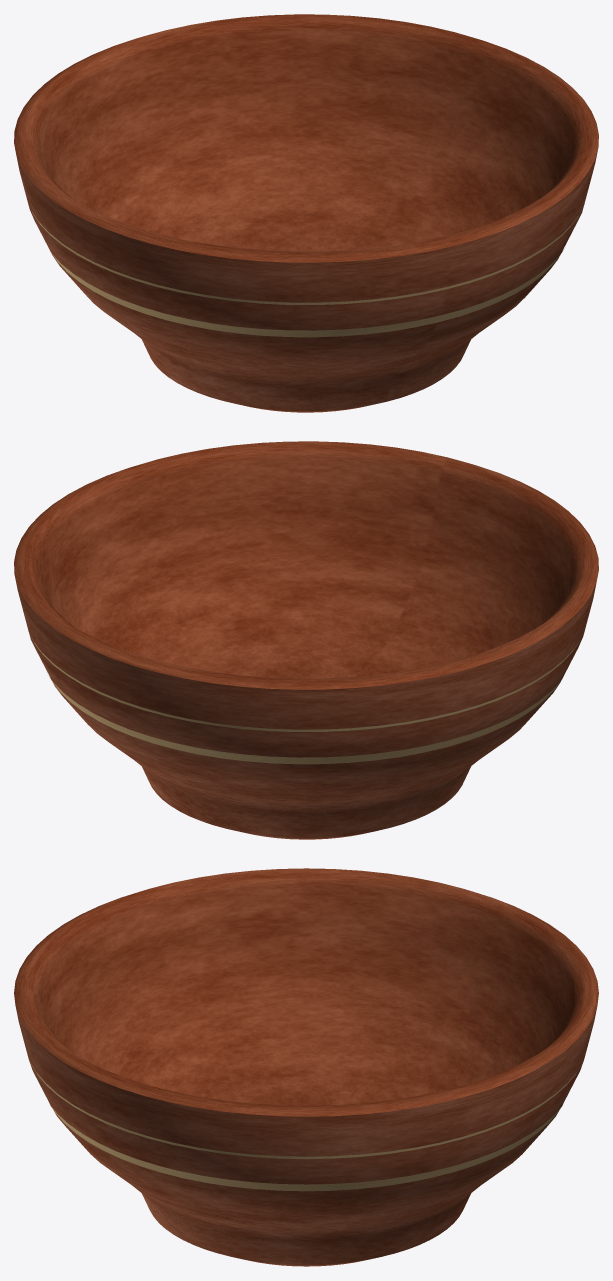
File: clay-bowl.glb
The picture shows the model from 3 angles, top to bottom: view 1: azimuth 30°, elevation 25°; view 2: azimuth 150°, elevation 25°; view 3: azimuth 270°, elevation 25°; orthographic projection.
Visible parts, largest first — view 1: Open terracotta bowl; view 2: Open terracotta bowl; view 3: Open terracotta bowl.
Part boxes in pixels (left/top/right/bottom): Open terracotta bowl: left=14, top=14, right=598, bottom=412; Open terracotta bowl: left=14, top=441, right=598, bottom=839; Open terracotta bowl: left=14, top=868, right=598, bottom=1266.
Size of the model in its own units: 0.348 by 0.148 by 0.348.
3 materials, 3 textured.
